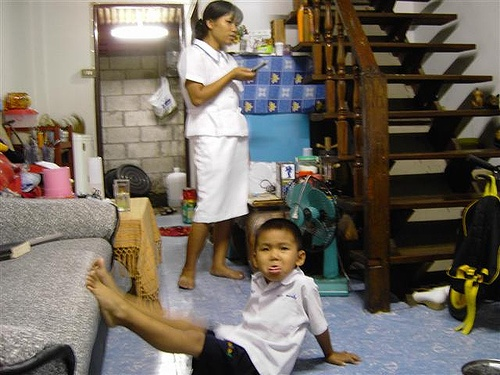head: (253, 216, 308, 284), (193, 1, 244, 55)
person: (86, 213, 359, 372), (175, 1, 260, 290)
